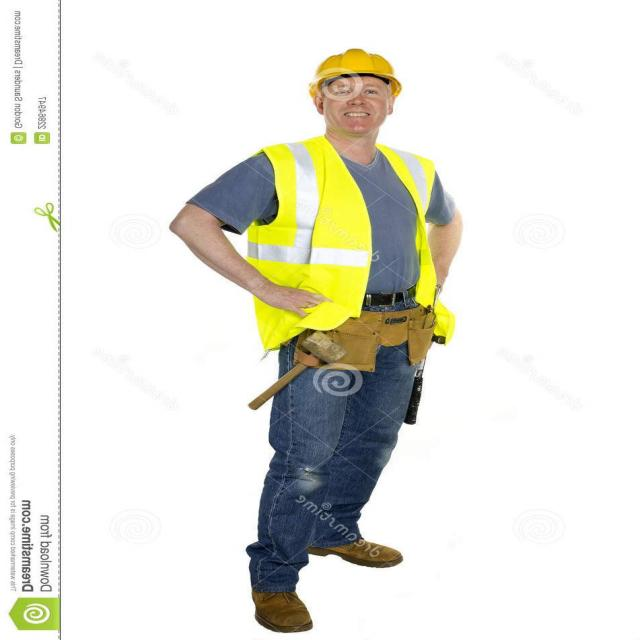Reflective-Jacket: (242, 137, 440, 336)
Safety-Helmet: (305, 44, 404, 91)
